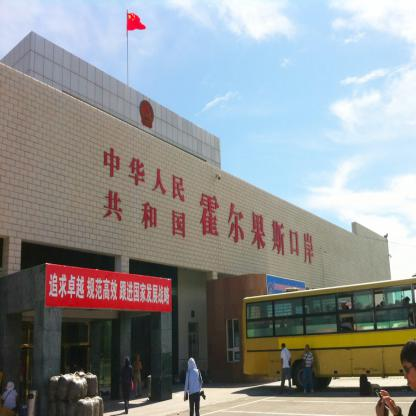Bus: (240, 275, 415, 396)
